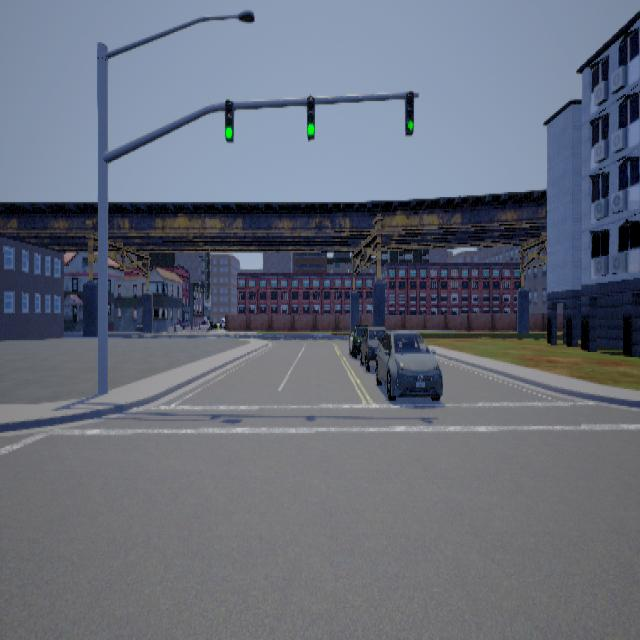green_light: (406, 89, 415, 135), (226, 98, 235, 142), (308, 92, 316, 140)
vehicle: (378, 315, 444, 399), (351, 322, 389, 366)
